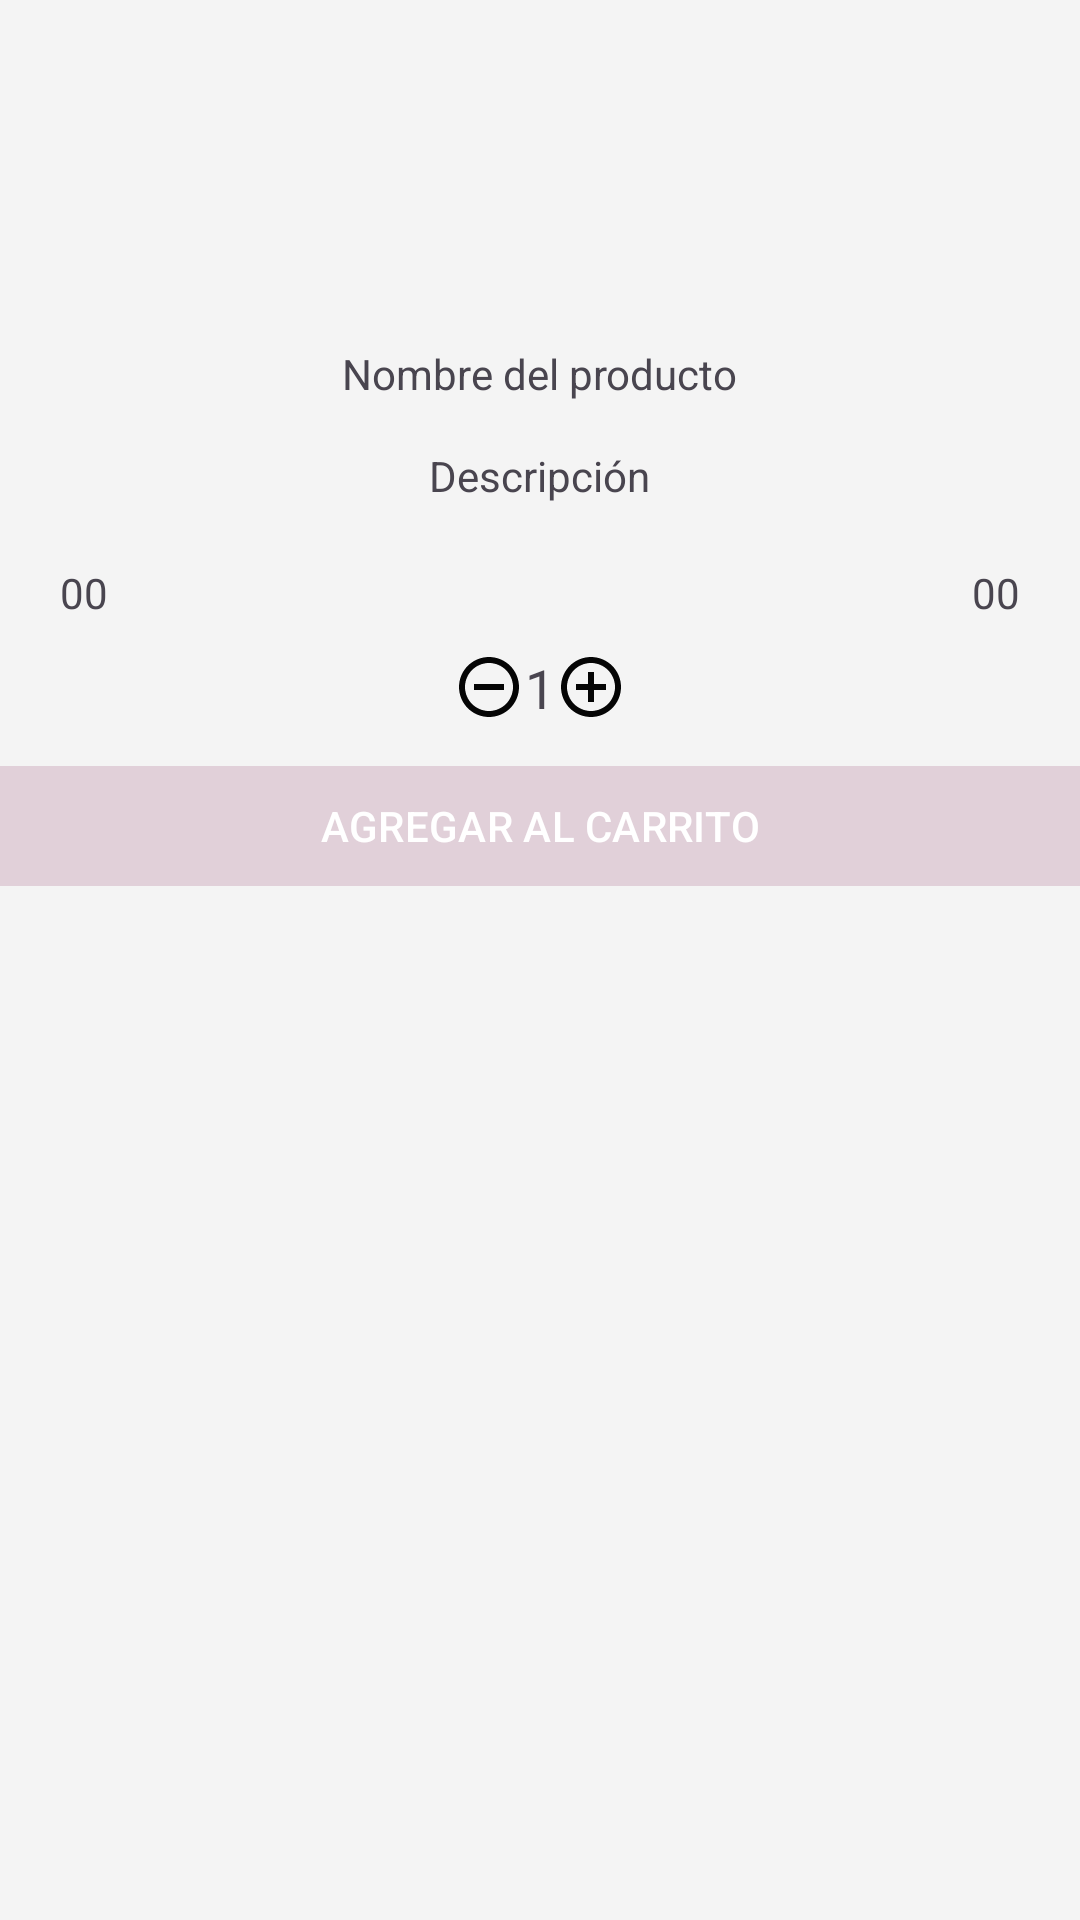

Screen size 1080*1920. Icon name, then its box in pixels as (x1, y1, x2, y2):
disminuir: (459, 657, 519, 717)
incrementar: (561, 657, 621, 717)
